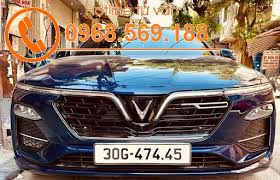number-plate: (96, 144, 190, 163)
